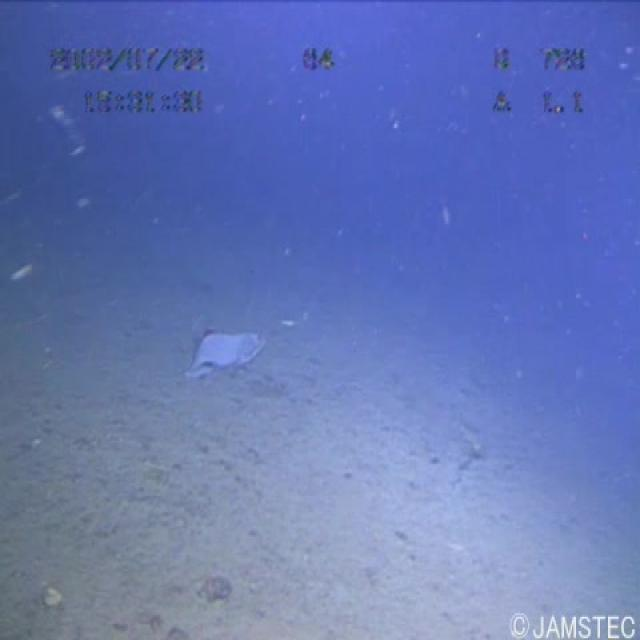plastic: (178, 308, 298, 391)
